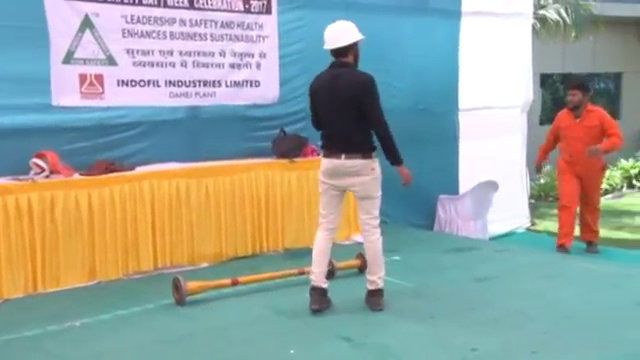helmet: (322, 19, 366, 51)
helmet_off: (563, 78, 592, 115)
helmet_on: (321, 19, 365, 69)
person: (306, 19, 412, 315), (534, 78, 624, 254)
